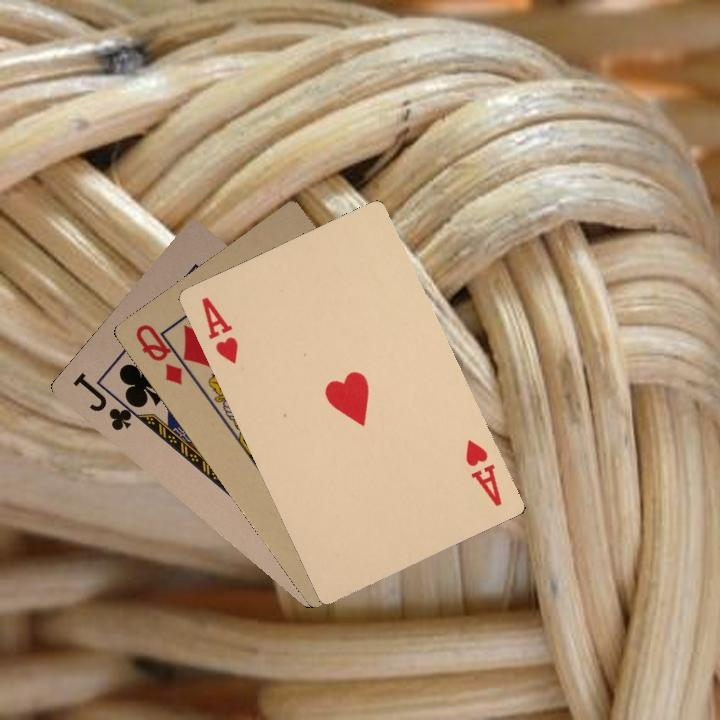Ah: (197, 292, 241, 367), (461, 435, 505, 509)
Jc: (68, 368, 144, 434)
Qd: (131, 320, 198, 389)
